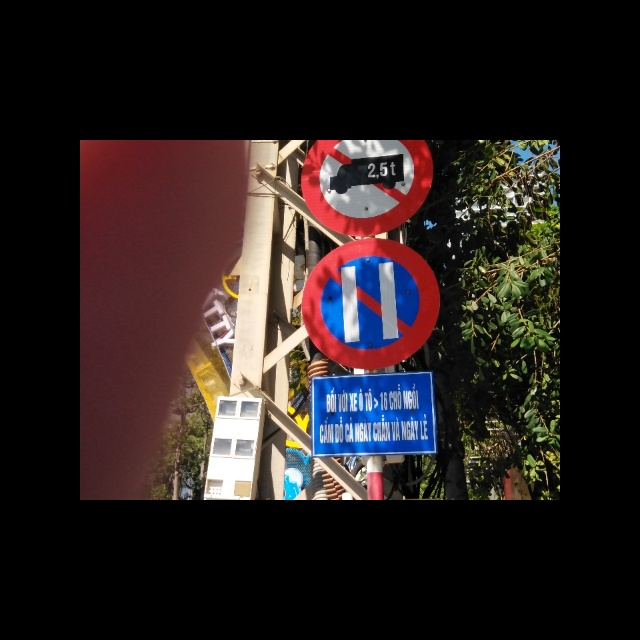Cấm đỗ xe ngày chẵn: (303, 235, 449, 366)
